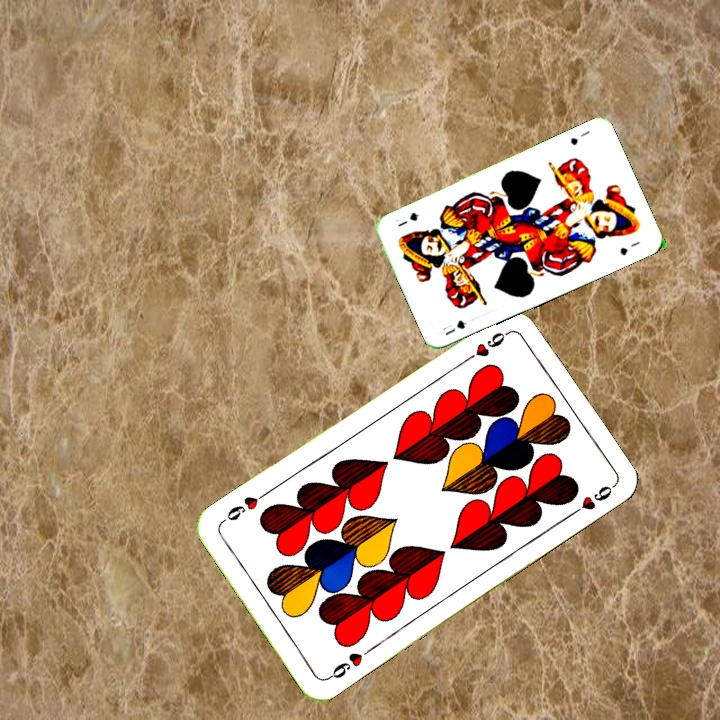GU: (441, 316, 469, 338), (566, 126, 592, 148)
H9: (459, 327, 512, 366), (323, 644, 375, 683)
